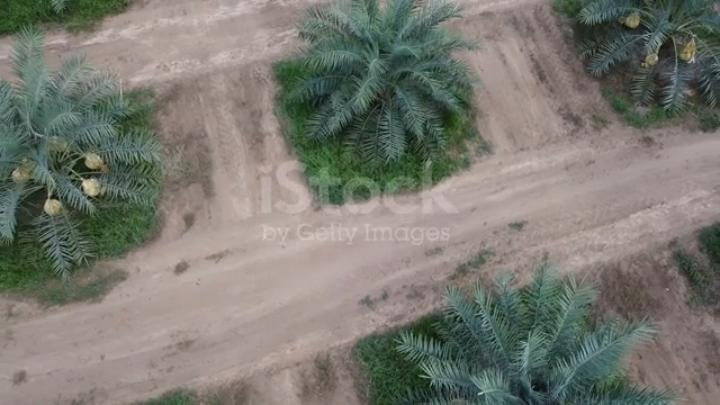Date-Palm-Crown: (438, 304, 612, 404), (318, 3, 448, 124), (0, 78, 100, 223), (608, 0, 720, 70)
